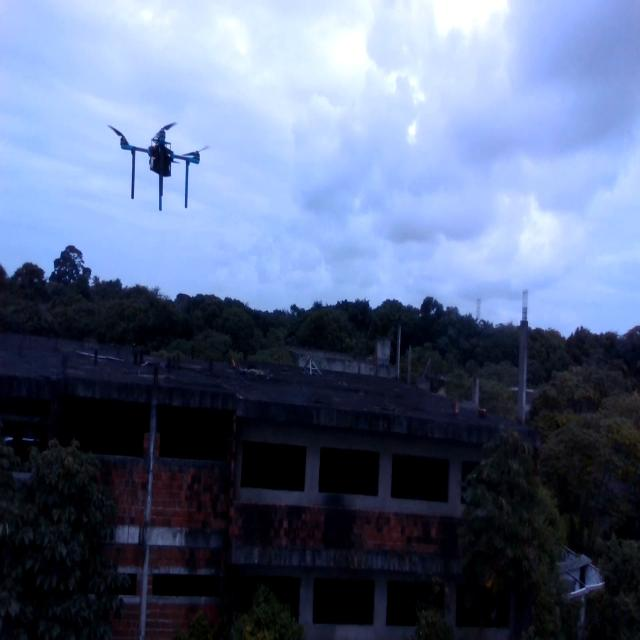-uav-: (97, 96, 218, 238)
